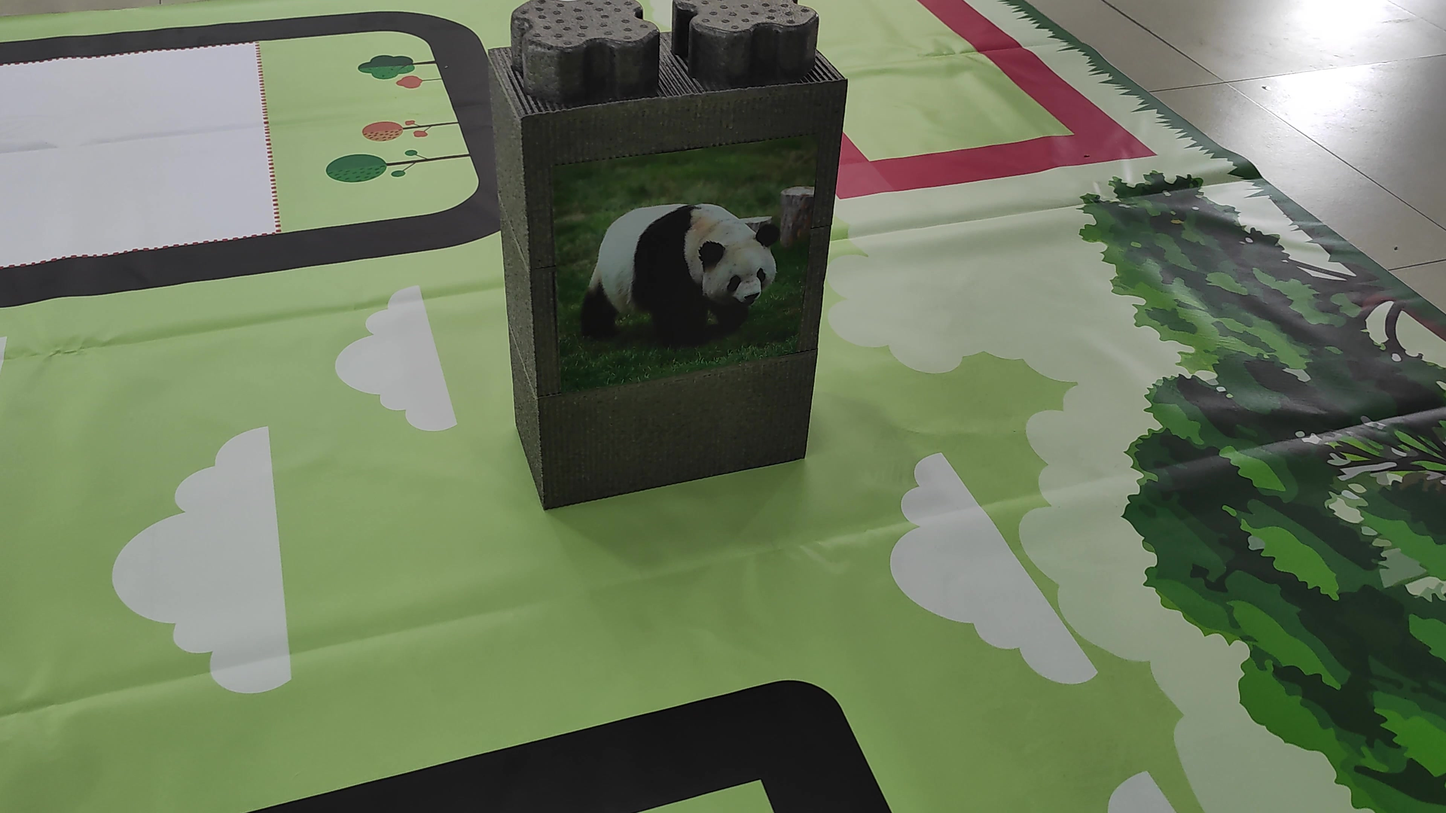panda: (555, 165, 796, 383)
